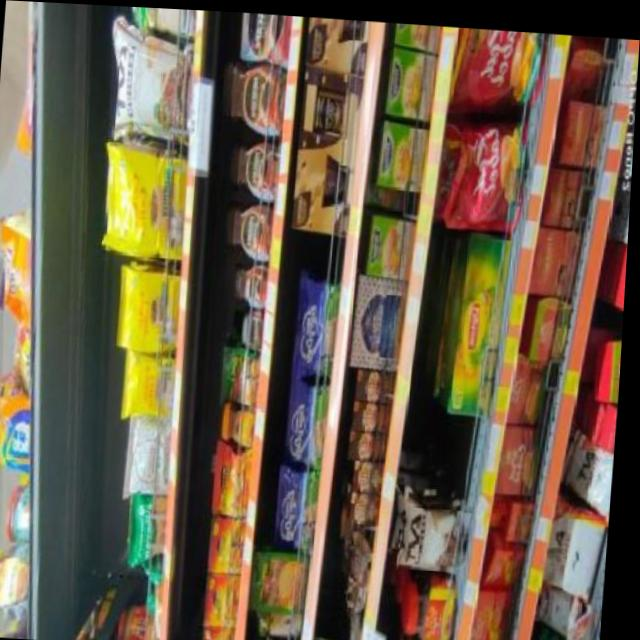Coffee: (222, 56, 284, 132), (225, 194, 274, 259), (229, 136, 279, 199), (241, 10, 290, 62), (218, 444, 256, 508), (227, 400, 260, 444), (236, 262, 271, 303), (245, 308, 267, 342)
